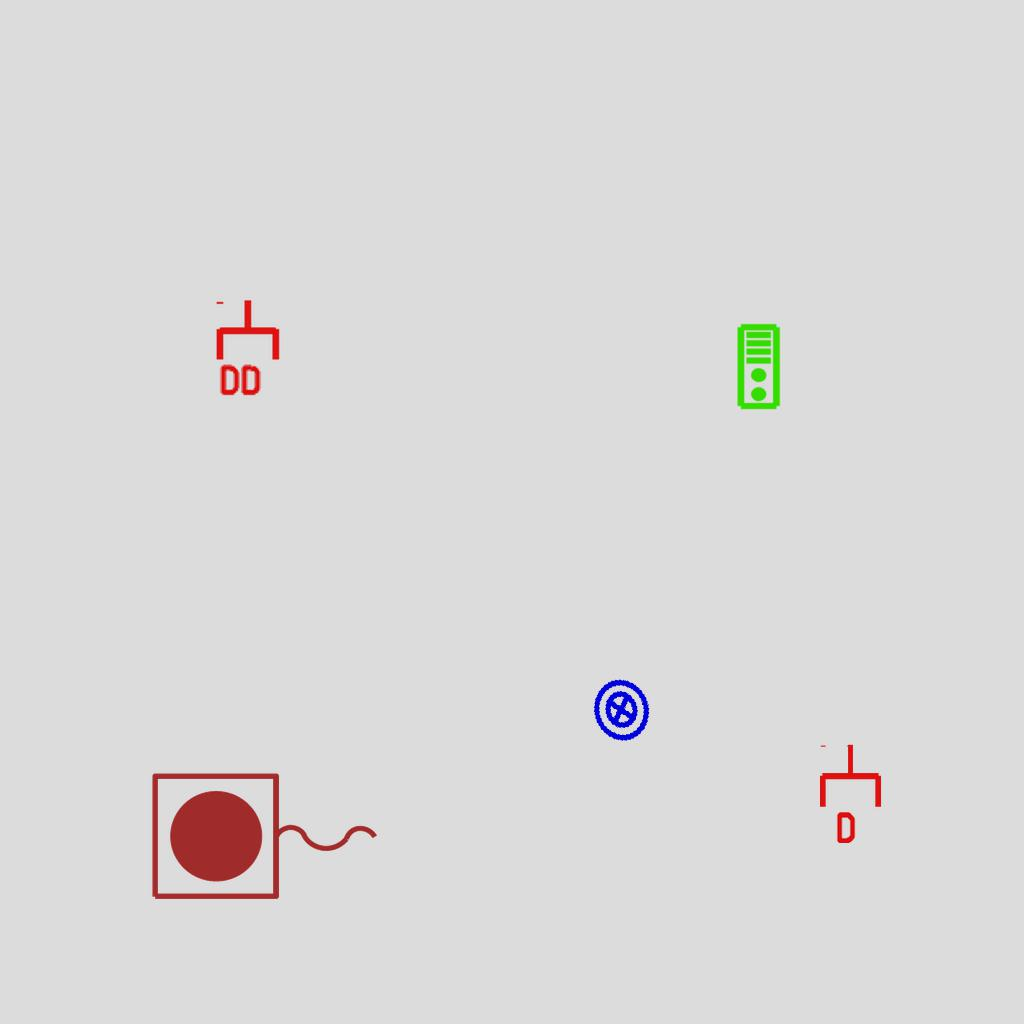Datenanschluss_einfach: (816, 743, 885, 843)
Datenanschluss_zweifach: (215, 297, 284, 400)
Gegensprechanlage_mit_Video: (736, 323, 783, 411)
Taster_beleuchtet: (580, 669, 662, 751)
Zugtaster: (144, 766, 388, 910)
